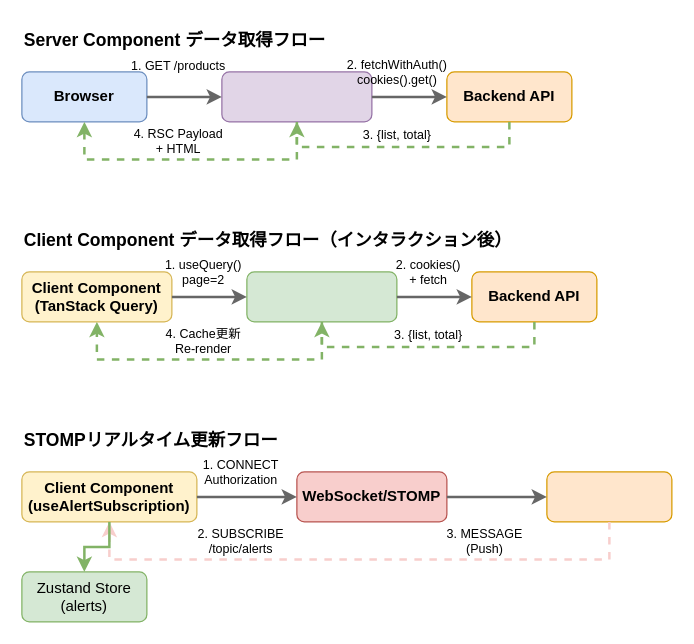
The diagram is 694 pixels wide and 644 high, and some of its shapes have lost their labels. The shapes that lost their labels are listed below. From the top down, each one's box as (x1, y1, x2, y2) in pixels, then its label:
(221, 71, 372, 122): Server Component (page.tsx)
(246, 271, 397, 322): Route Handler (/api/proxy/*)
(546, 471, 672, 522): Backend (Alert Service)
